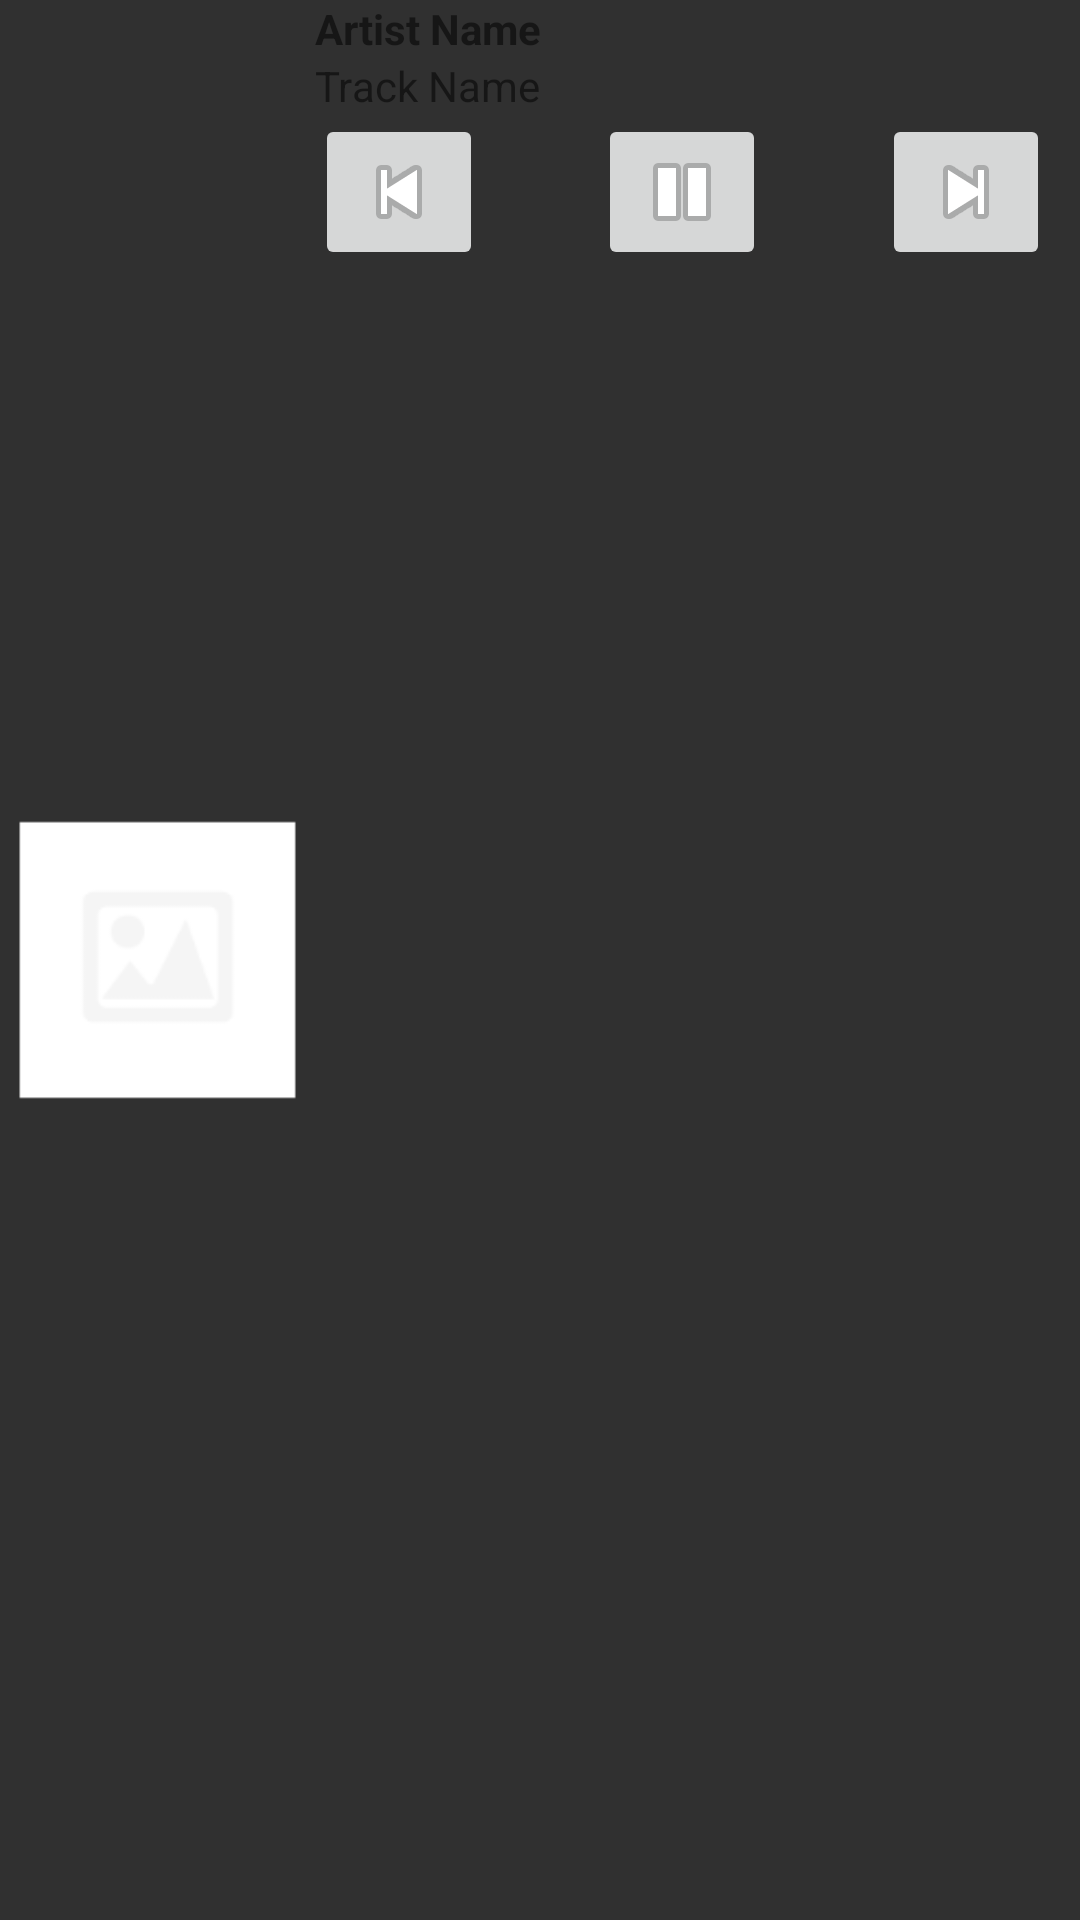

Icons on this 1080×1920 Android screen, each with its box as (x1, y1, x2, y2):
next: (894, 132, 1038, 252)
pause: (610, 132, 754, 252)
previous: (327, 132, 471, 252)
